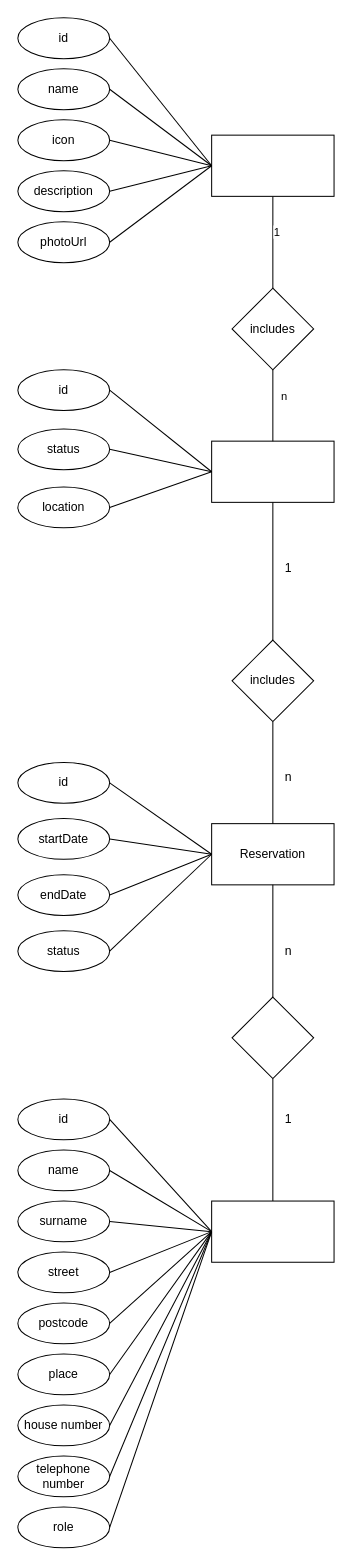
Image size: 352x1566. Some labels were removed from this diagram. The shapes that lost their labels are listed below. From the top down, each one's centre as x and y in pixels, then its label:
the point at 272,165: Category
the point at 272,471: InventoryItem
the point at 272,1037: does
the point at 272,1231: person
